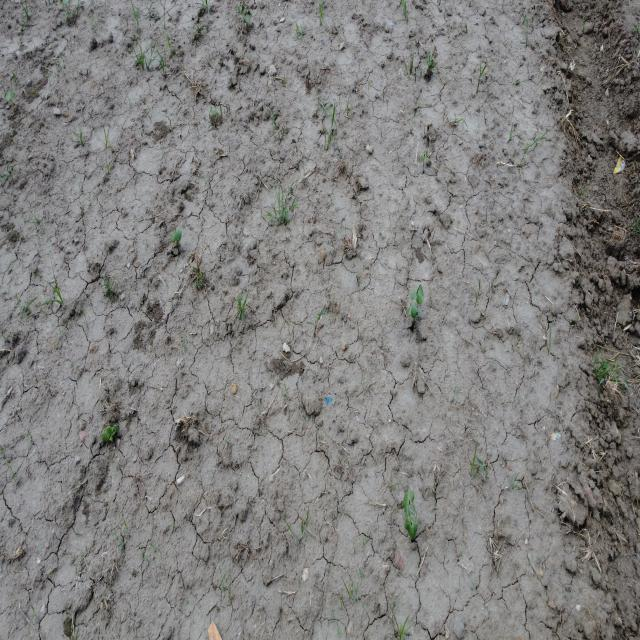seedling: (402, 492, 410, 518), (405, 518, 414, 540), (101, 426, 112, 442), (409, 490, 416, 514), (416, 285, 424, 305), (410, 285, 421, 299), (411, 518, 418, 536), (5, 91, 15, 103), (411, 303, 419, 318), (175, 228, 183, 242), (109, 427, 116, 442), (172, 227, 177, 243), (407, 302, 413, 313), (420, 150, 425, 163), (428, 61, 435, 69), (212, 105, 217, 116), (114, 423, 119, 432), (426, 52, 430, 63), (238, 5, 242, 14), (425, 150, 428, 162), (241, 4, 246, 11), (245, 15, 250, 22), (65, 12, 69, 20), (248, 11, 252, 16), (245, 10, 248, 15), (244, 17, 246, 23)
